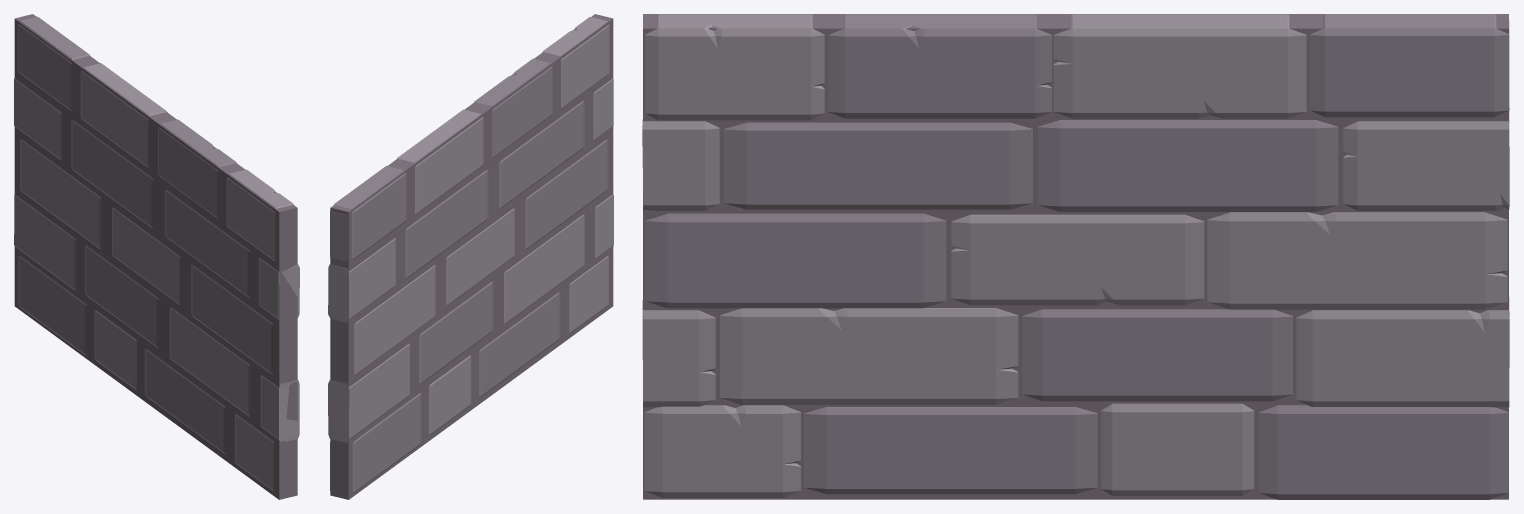
File: wall.fbx
The picture shows the model from 3 angles, left to right: view 1: azimuth 30°, elevation 25°; view 2: azimuth 150°, elevation 25°; view 3: azimuth 270°, elevation 25°; orthographic projection. The views are drawn at different scales.
Visible parts, largest first — view 1: pCube255; view 2: pCube255; view 3: pCube255.
Boxes of the visible parts, x1=… form: pCube255: x1=14, y1=14, x2=299, y2=499; pCube255: x1=328, y1=14, x2=613, y2=499; pCube255: x1=642, y1=14, x2=1509, y2=499.
Bounding box in the file's own units: 0.2295 × 3.01 × 5.01.
